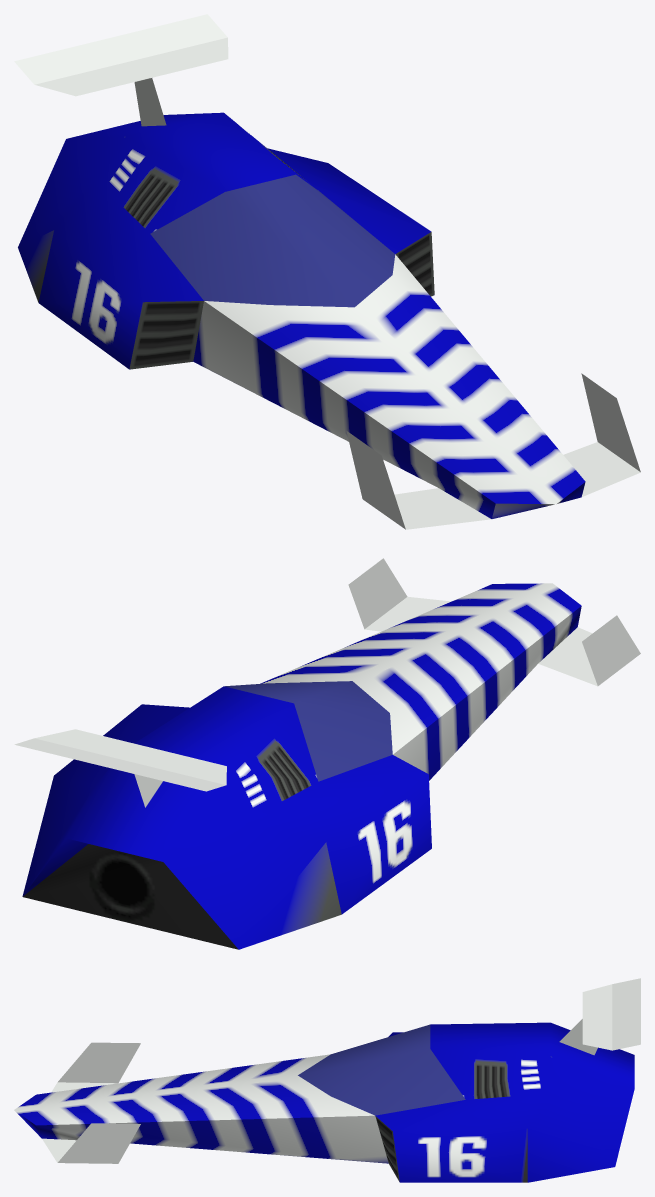
3 renders of one model, top to bottom at view 1: azimuth 30°, elevation 25°; view 2: azimuth 150°, elevation 25°; view 3: azimuth 270°, elevation 25°, orthographic. The views are drawn at different scales.
Visible parts, largest first — view 1: Joint_0_Object_0; view 2: Joint_0_Object_0; view 3: Joint_0_Object_0.
Boxes of the visible parts, box(x1,y1,x2,y2) form: Joint_0_Object_0: box(14, 14, 640, 529); Joint_0_Object_0: box(14, 558, 640, 949); Joint_0_Object_0: box(14, 978, 640, 1182).
Size of the model in its own units: 24.64 by 13.05 by 62.3.
1 material, 1 textured.
